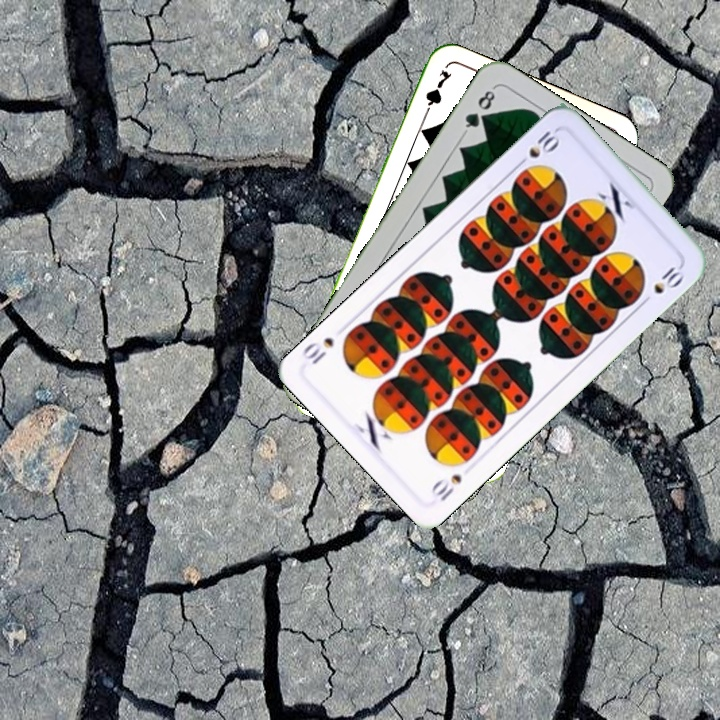G7: (419, 65, 455, 122)
G8: (460, 83, 498, 136)
S10: (512, 124, 564, 175), (427, 470, 465, 504)
